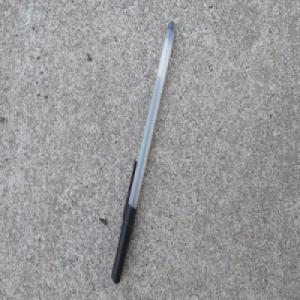Pen: (111, 20, 177, 285)
